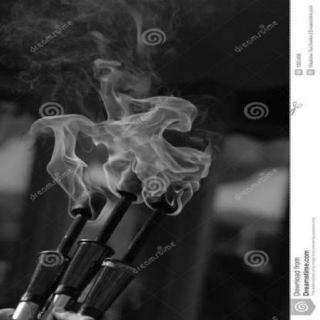Fire: (23, 34, 213, 211)
